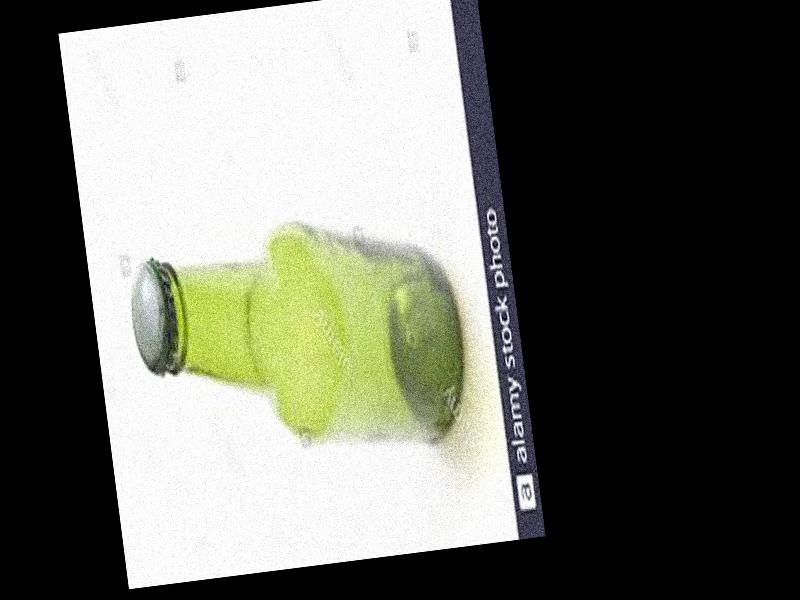Beer: (124, 220, 473, 477)
